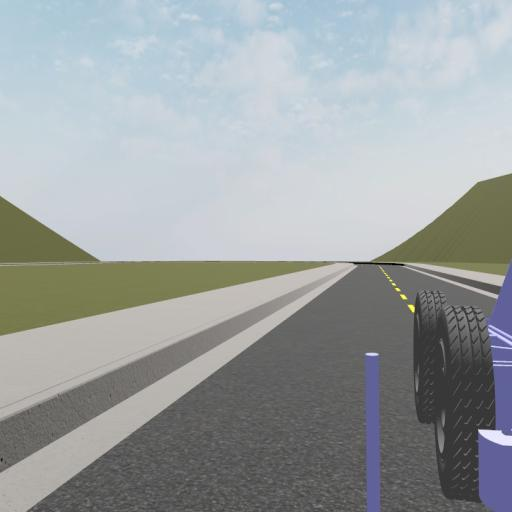ERP-42: (416, 238, 512, 502)
